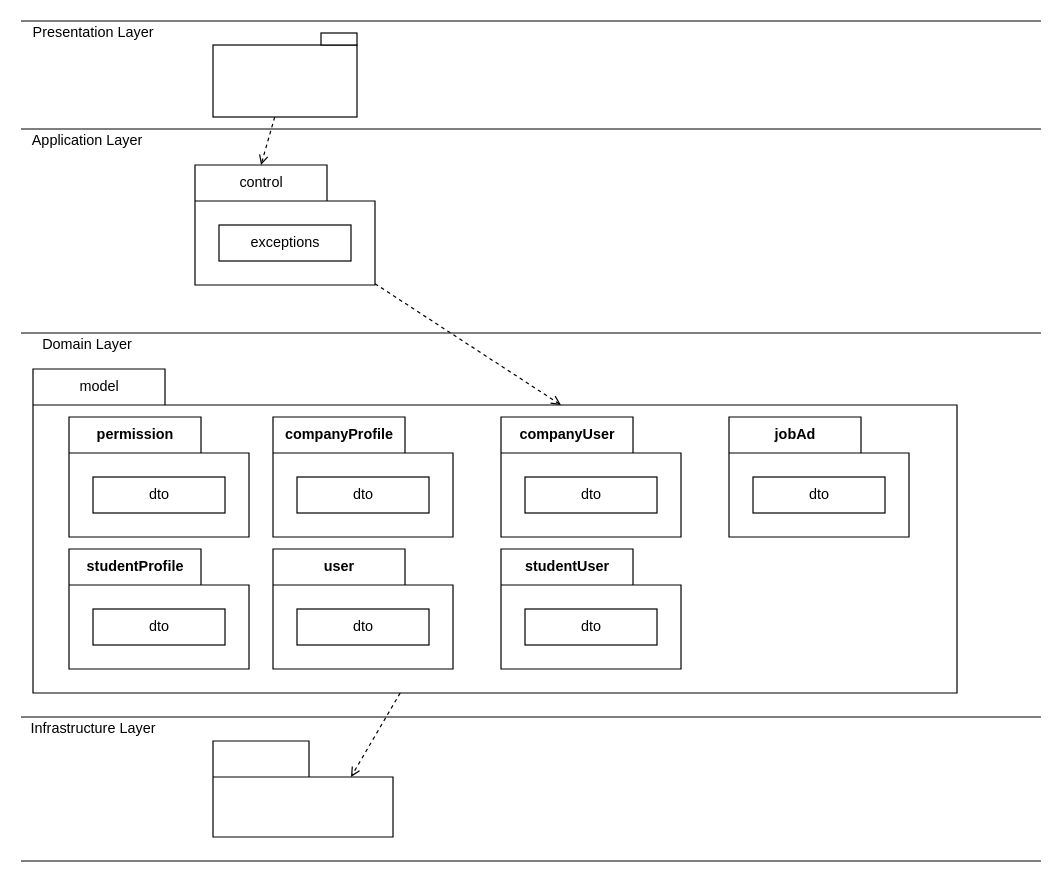
Some shapes in this 1063 by 883 pixel diagram are drawn without their labels. Each missing label, with the centre of its shape:
"util" goes at (x=302, y=788).
"view" goes at (x=284, y=80).
